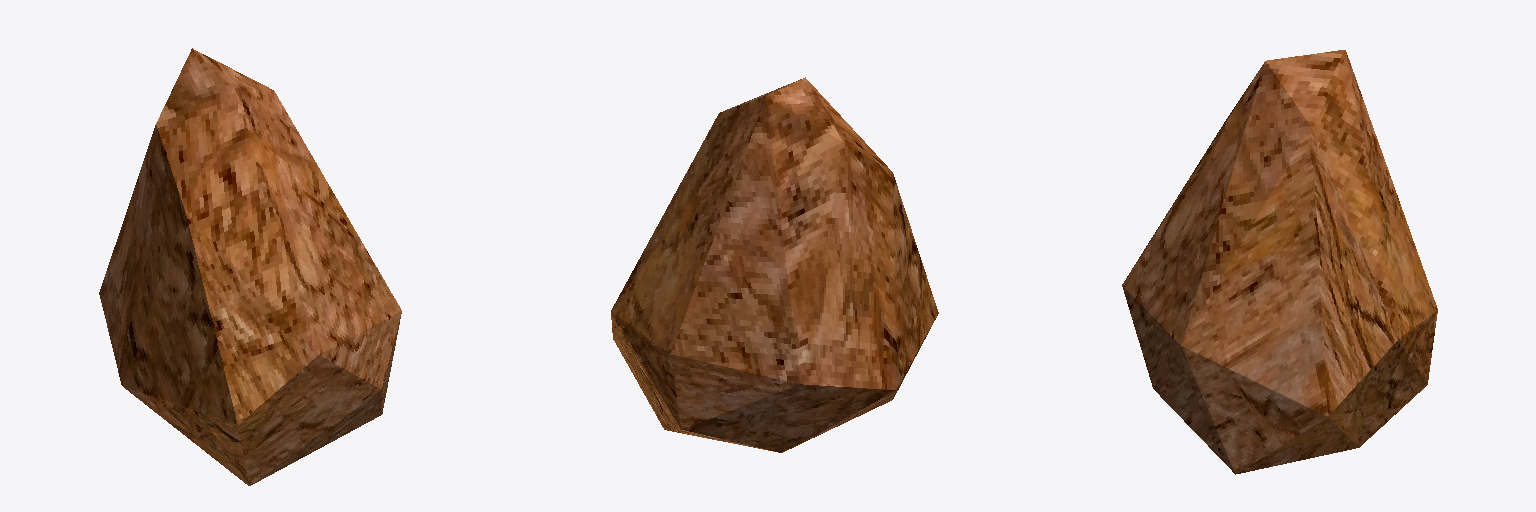
3 renders of one model, left to right at view 1: azimuth 30°, elevation 25°; view 2: azimuth 150°, elevation 25°; view 3: azimuth 270°, elevation 25°, orthographic.
Parts seen in each view (by area): view 1: rockhigh8; view 2: rockhigh8; view 3: rockhigh8.
Part boxes in pixels (x1,y1,x2,y2): rockhigh8: (99,48,401,485); rockhigh8: (611,77,938,452); rockhigh8: (1122,50,1437,474).
Bounding box in the file's own units: 1.78 × 2.48 × 1.85.
Materials: 1 (1 with a texture image).